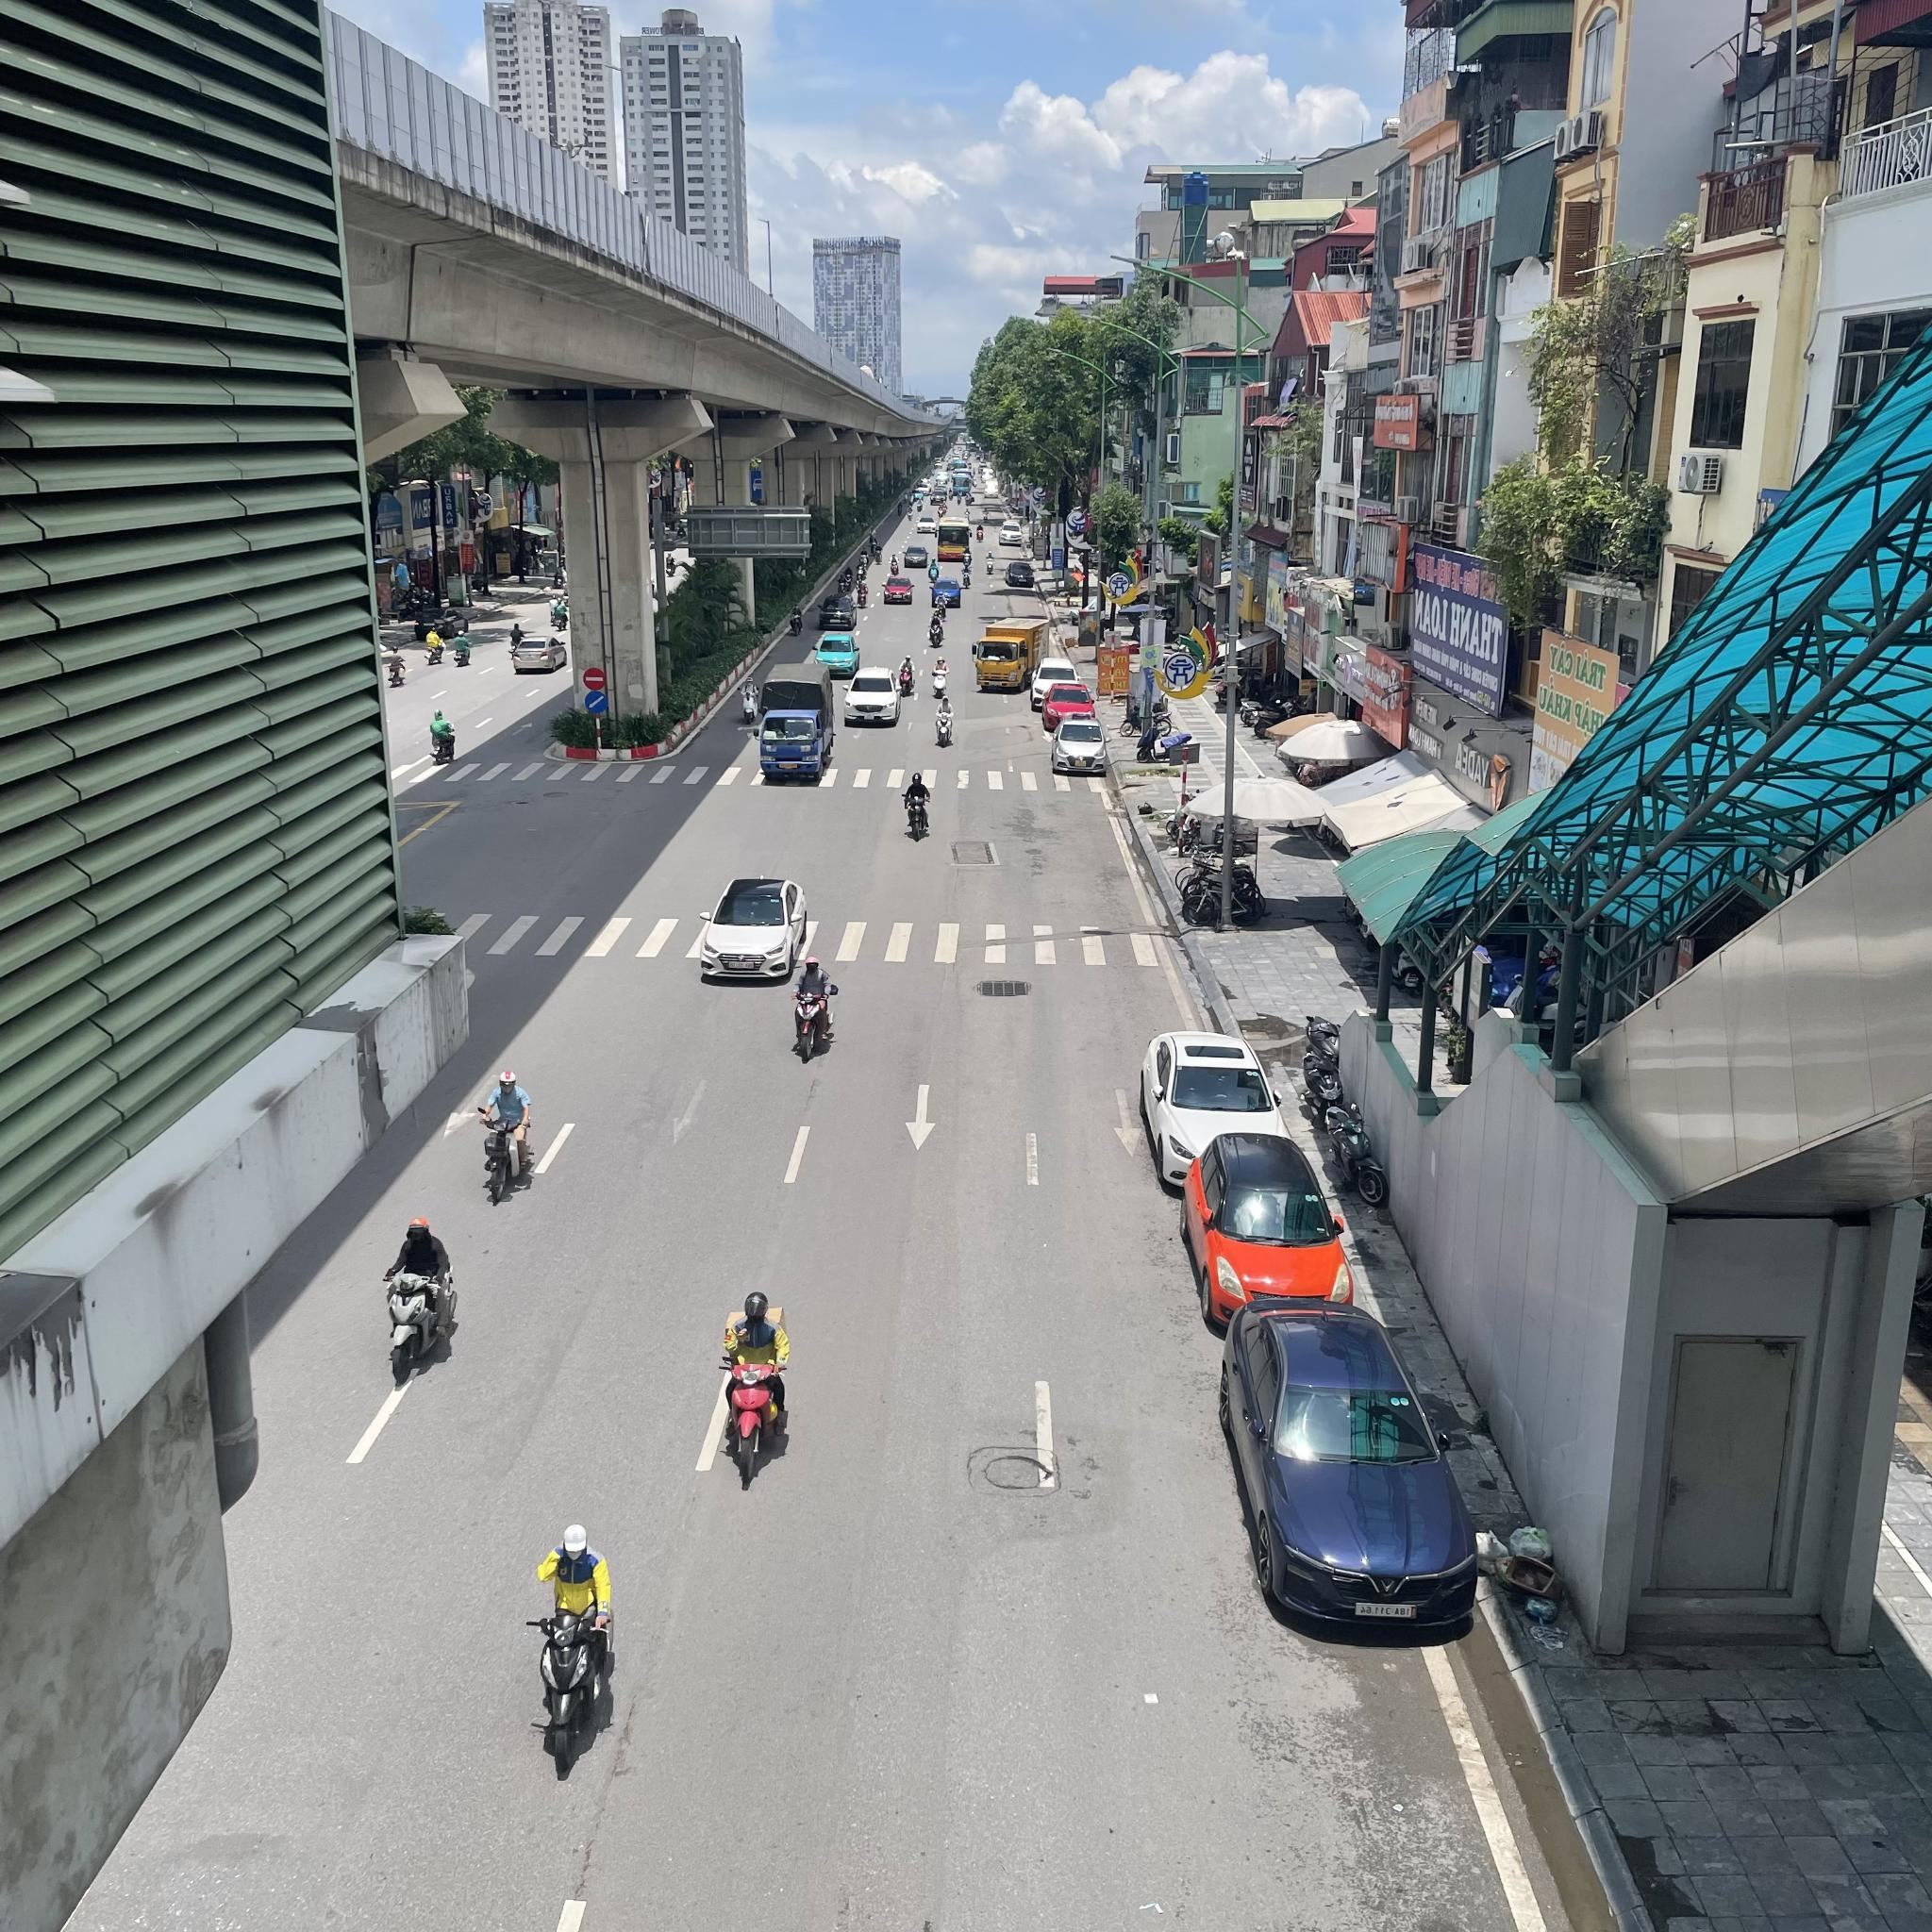car: (1217, 1297, 1481, 1631), (1185, 1129, 1355, 1316), (1146, 1028, 1295, 1182), (697, 874, 809, 984), (752, 662, 835, 786), (971, 616, 1051, 690), (1049, 717, 1113, 778), (844, 665, 902, 725), (1040, 681, 1097, 734), (1028, 656, 1085, 708), (810, 632, 862, 678), (816, 591, 858, 632), (934, 517, 971, 561), (883, 575, 915, 607), (931, 577, 962, 607), (1005, 561, 1035, 589), (1000, 518, 1024, 547), (902, 545, 929, 568), (915, 517, 936, 533)
motobike: (522, 1522, 616, 1778), (717, 1290, 793, 1483), (380, 1215, 460, 1387), (474, 1067, 534, 1203), (787, 955, 840, 1063), (902, 773, 931, 837), (736, 676, 761, 724), (934, 695, 955, 747), (931, 655, 948, 695), (897, 655, 915, 695), (927, 612, 945, 648), (787, 603, 805, 637), (932, 591, 948, 621), (855, 577, 869, 607), (961, 545, 973, 573), (842, 564, 855, 591), (929, 557, 941, 582), (984, 550, 996, 575), (961, 564, 973, 587), (888, 552, 901, 575), (858, 547, 870, 570), (855, 561, 867, 582), (835, 573, 847, 594), (872, 541, 883, 564), (867, 527, 876, 545), (977, 522, 984, 543)
